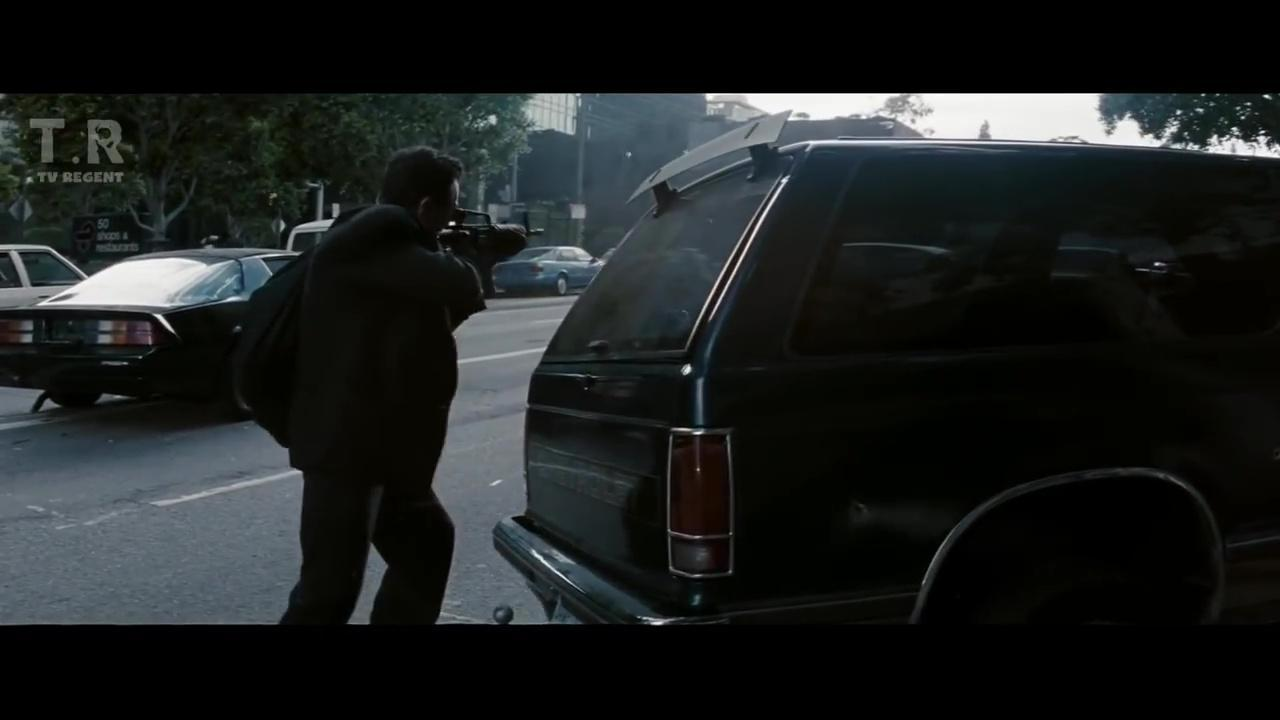Gun: (433, 205, 549, 263)
